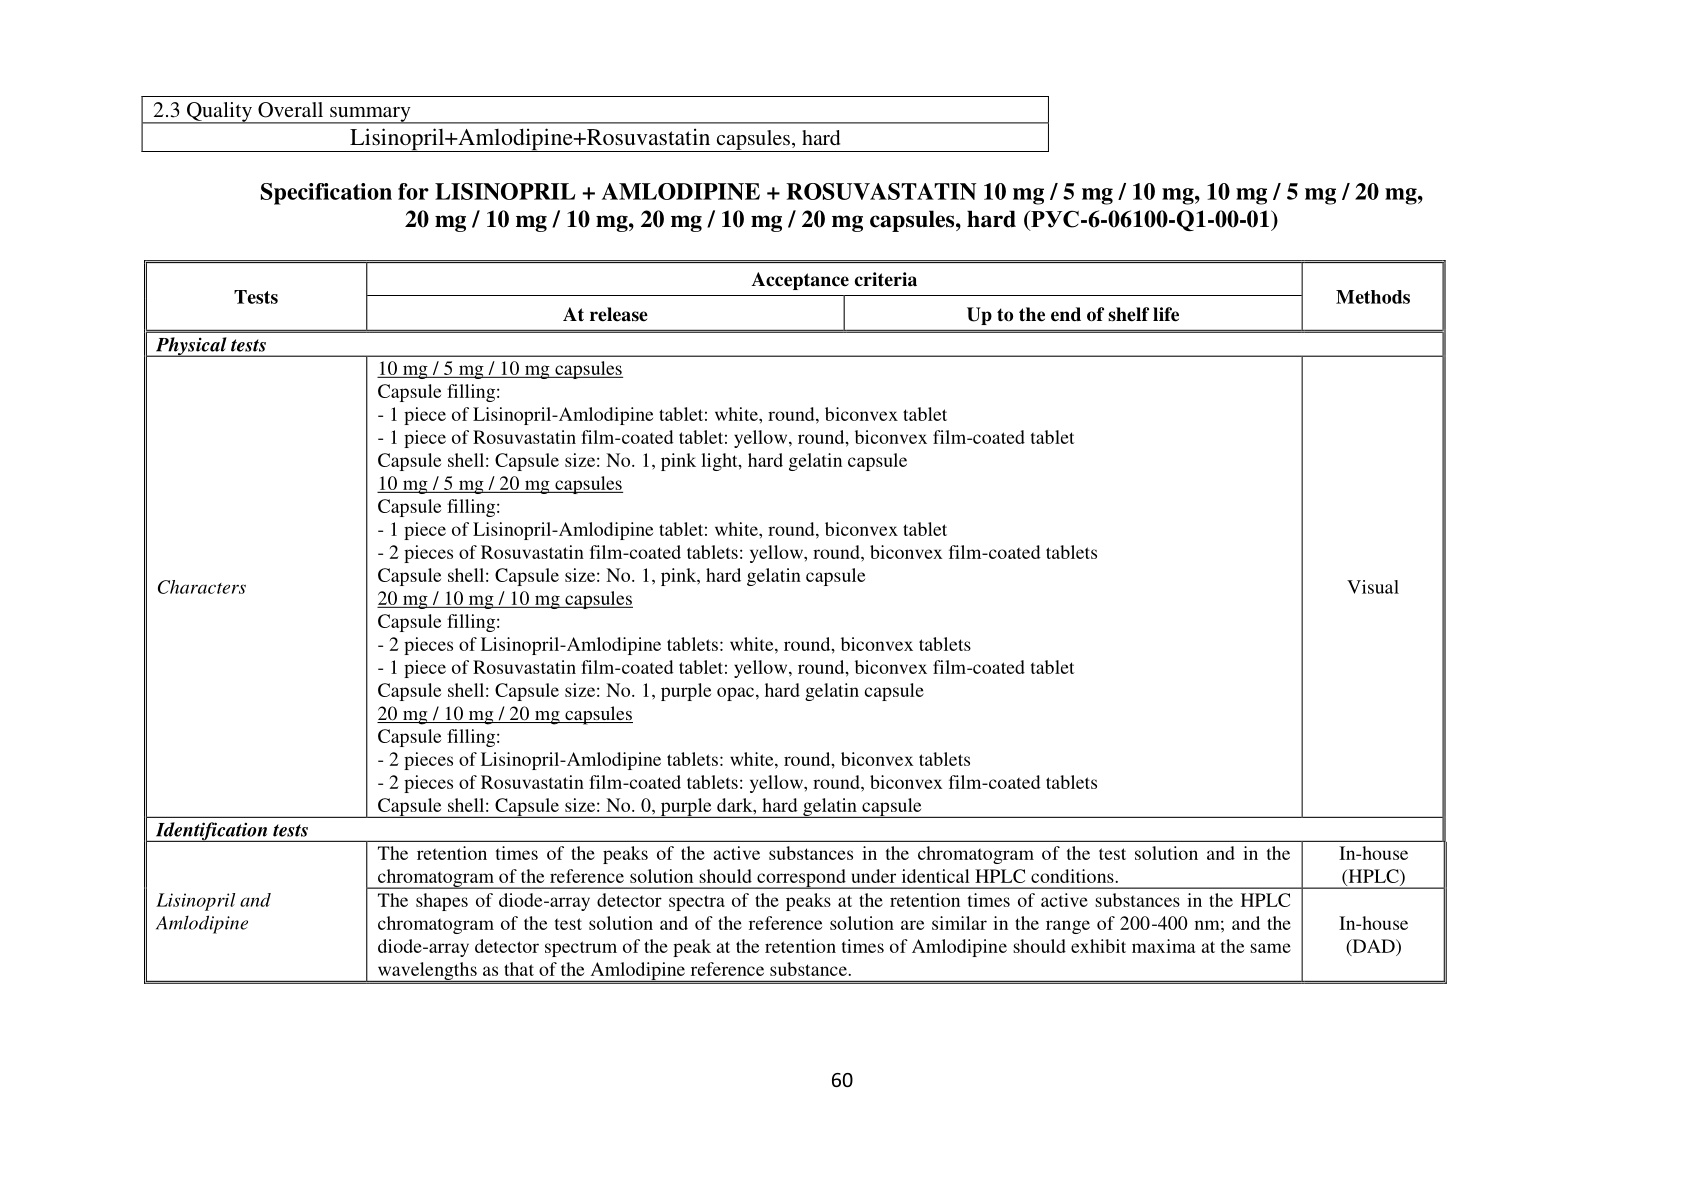merged_cells: (143, 259, 1447, 985), (142, 95, 1049, 153)
